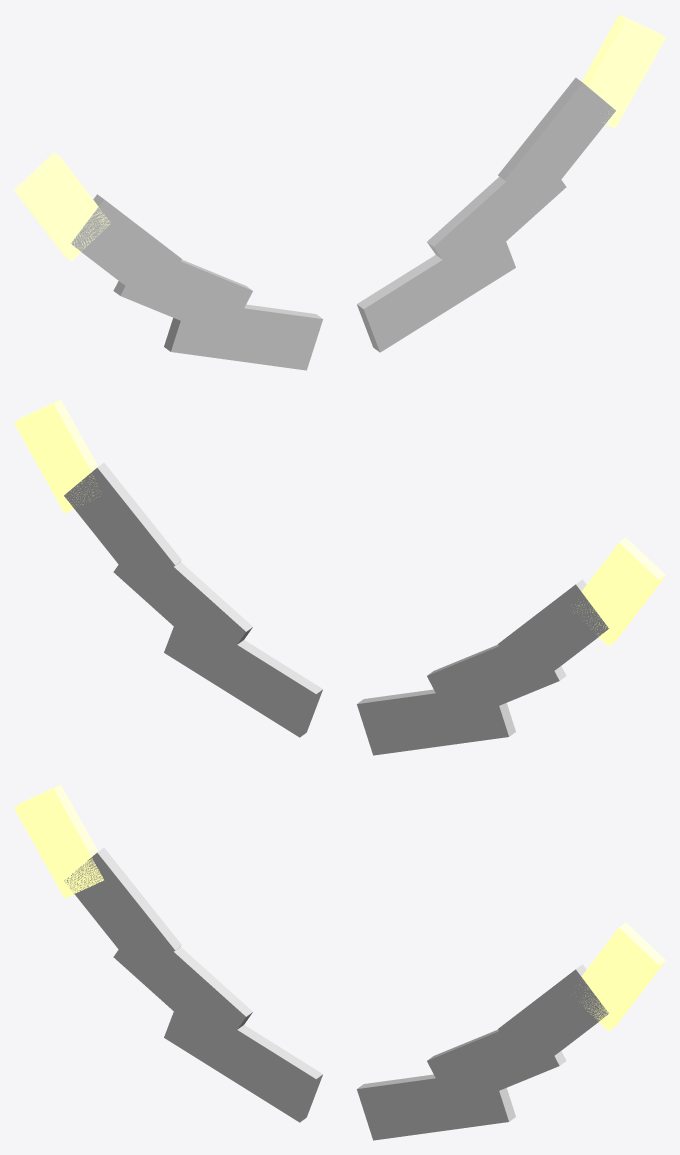
File: FXGoldWings.fbx
3 views of the same model, one above another, from view 1: azimuth 30°, elevation 25°; view 2: azimuth 150°, elevation 25°; view 3: azimuth 330°, elevation 25° (orthographic).
Parts seen in each view (by area): view 1: FX Gold Wings_body_0, FX Gold Wings_body_4, FX Gold Wings_body_2, FX Gold Wings_body_5, FX Gold Wings_body_1, FX Gold Wings_body_6, FX Gold Wings_body_7, FX Gold Wings_body_3; view 2: FX Gold Wings_body_0, FX Gold Wings_body_4, FX Gold Wings_body_5, FX Gold Wings_body_1, FX Gold Wings_body_2, FX Gold Wings_body_3, FX Gold Wings_body_7, FX Gold Wings_body_6; view 3: FX Gold Wings_body_4, FX Gold Wings_body_5, FX Gold Wings_body_1, FX Gold Wings_body_0, FX Gold Wings_body_6, FX Gold Wings_body_7, FX Gold Wings_body_3, FX Gold Wings_body_2.
Boxes of the visible parts, <box> form: FX Gold Wings_body_0: <box>357,224,515,352</box>; FX Gold Wings_body_4: <box>164,301,322,370</box>; FX Gold Wings_body_2: <box>498,77,615,208</box>; FX Gold Wings_body_5: <box>113,247,252,339</box>; FX Gold Wings_body_1: <box>427,156,566,282</box>; FX Gold Wings_body_6: <box>71,194,181,303</box>; FX Gold Wings_body_7: <box>14,152,110,261</box>; FX Gold Wings_body_3: <box>581,14,665,128</box>; FX Gold Wings_body_0: <box>164,609,322,737</box>; FX Gold Wings_body_4: <box>357,685,515,755</box>; FX Gold Wings_body_5: <box>427,632,566,724</box>; FX Gold Wings_body_1: <box>113,536,252,667</box>; FX Gold Wings_body_2: <box>64,462,181,592</box>; FX Gold Wings_body_3: <box>14,399,98,513</box>; FX Gold Wings_body_7: <box>574,537,665,646</box>; FX Gold Wings_body_6: <box>498,579,608,687</box>; FX Gold Wings_body_4: <box>164,995,322,1122</box>; FX Gold Wings_body_5: <box>113,921,252,1053</box>; FX Gold Wings_body_1: <box>427,1017,566,1109</box>; FX Gold Wings_body_0: <box>357,1071,515,1140</box>; FX Gold Wings_body_6: <box>64,847,181,977</box>; FX Gold Wings_body_7: <box>14,784,103,898</box>; FX Gold Wings_body_3: <box>581,922,665,1031</box>; FX Gold Wings_body_2: <box>498,964,608,1072</box>.
Size of the model in its own units: 535 by 217 by 10.
